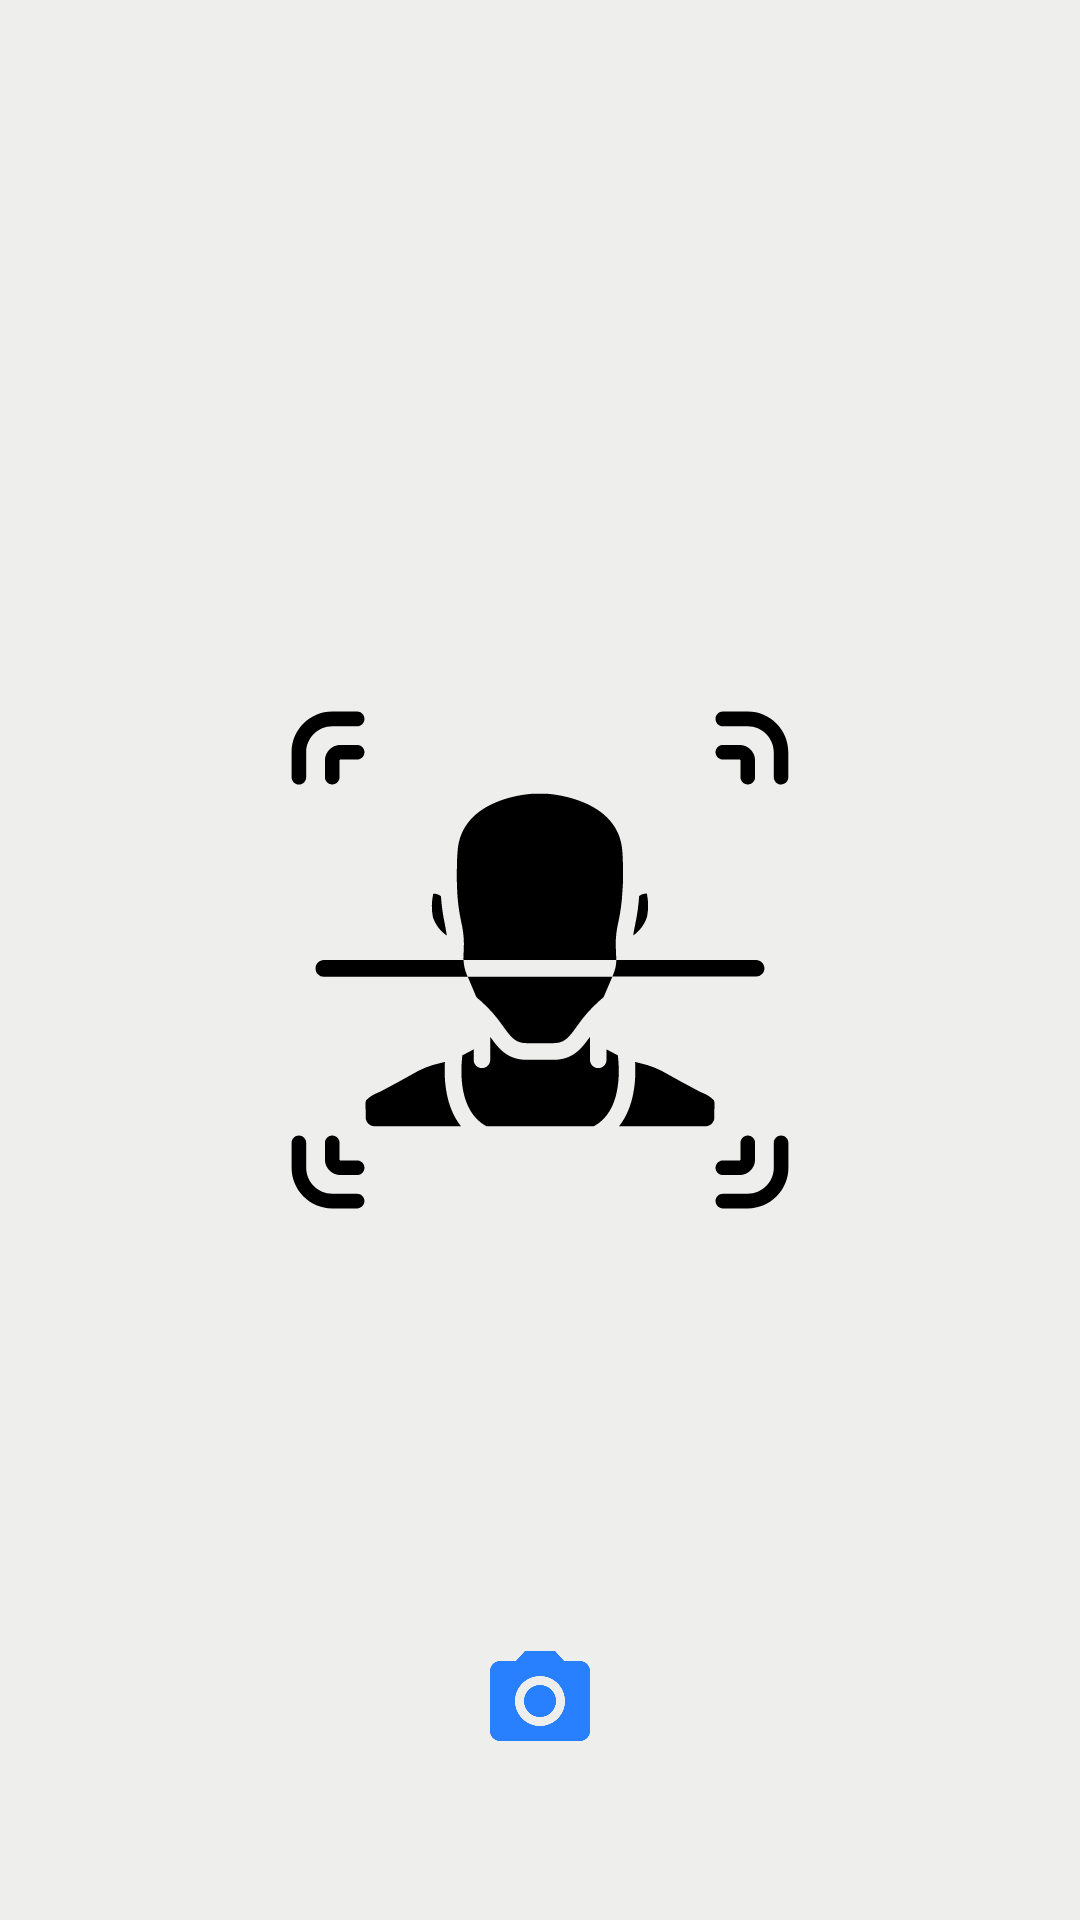

Icons on this 1080x1920 Android screen, each with the point to tap as (x=x, y=y):
stillshot camera: (x=540, y=1696)
